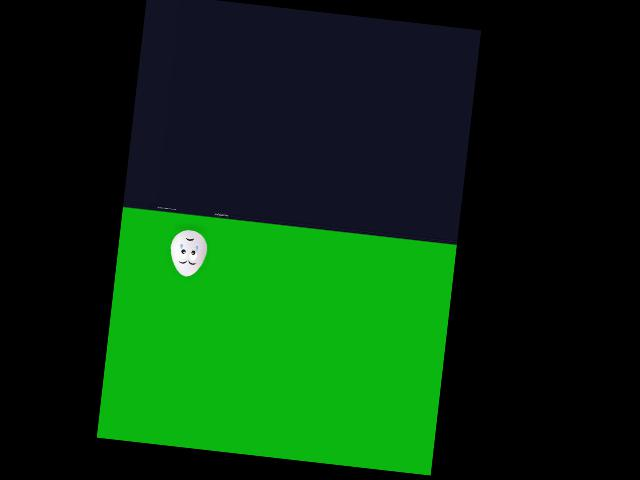egg: (167, 228, 208, 278)
